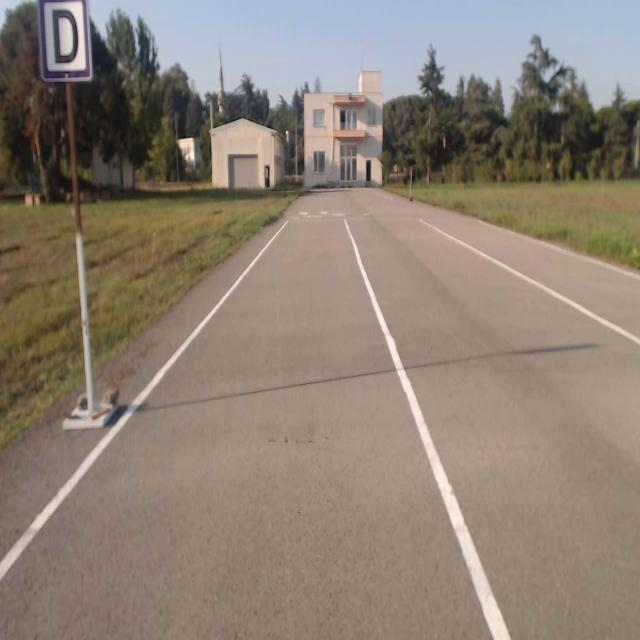durak: (38, 1, 94, 81)
